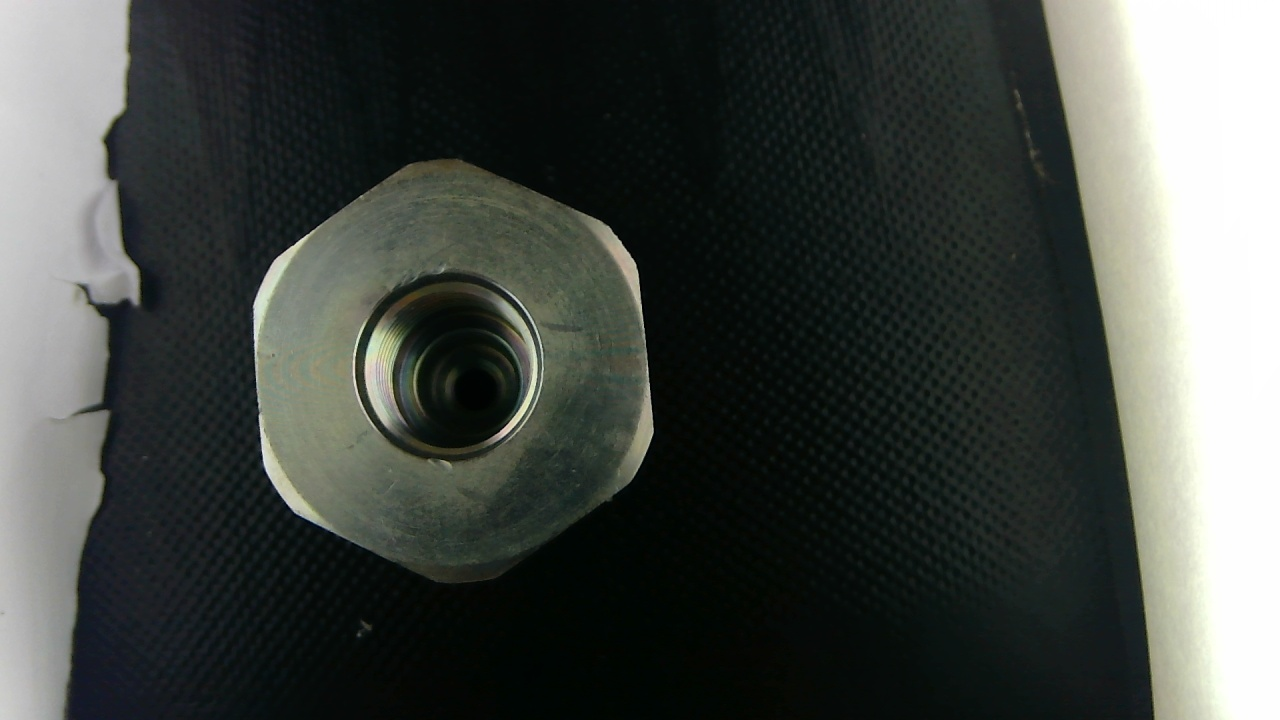Capnut_Surface_Dent: (388, 263, 449, 297)
